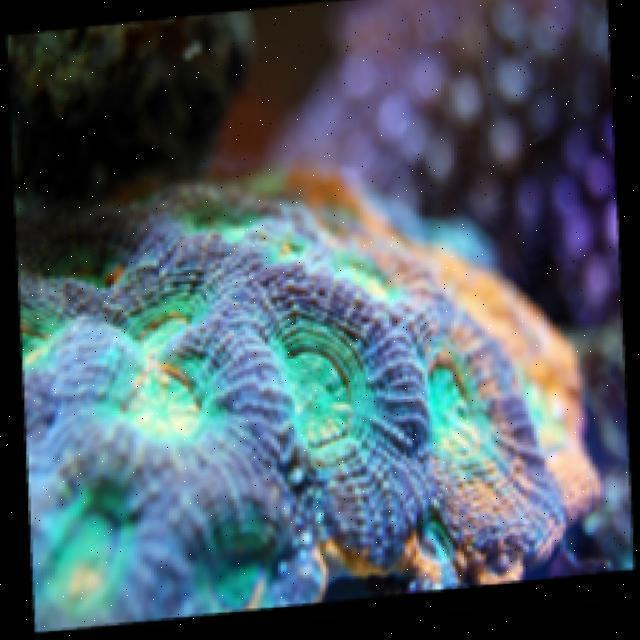Healthy Coral: (24, 185, 549, 586)
